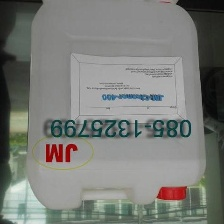cleaning_solution: (24, 0, 208, 212)
